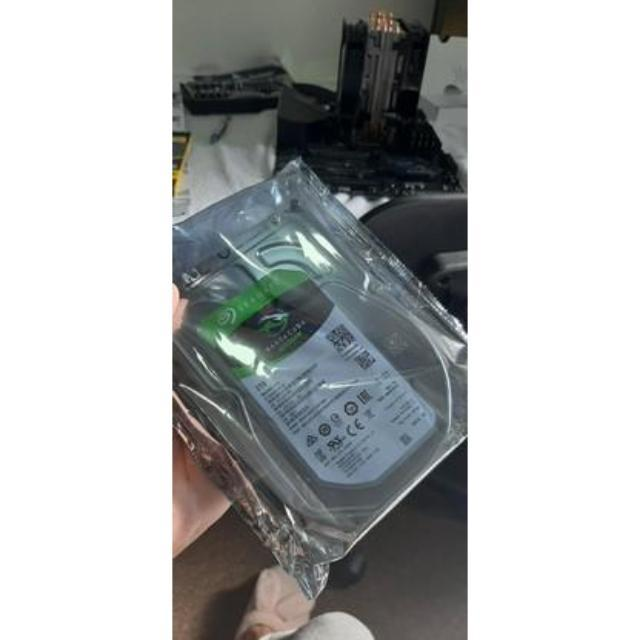DISK: (178, 198, 460, 546)
